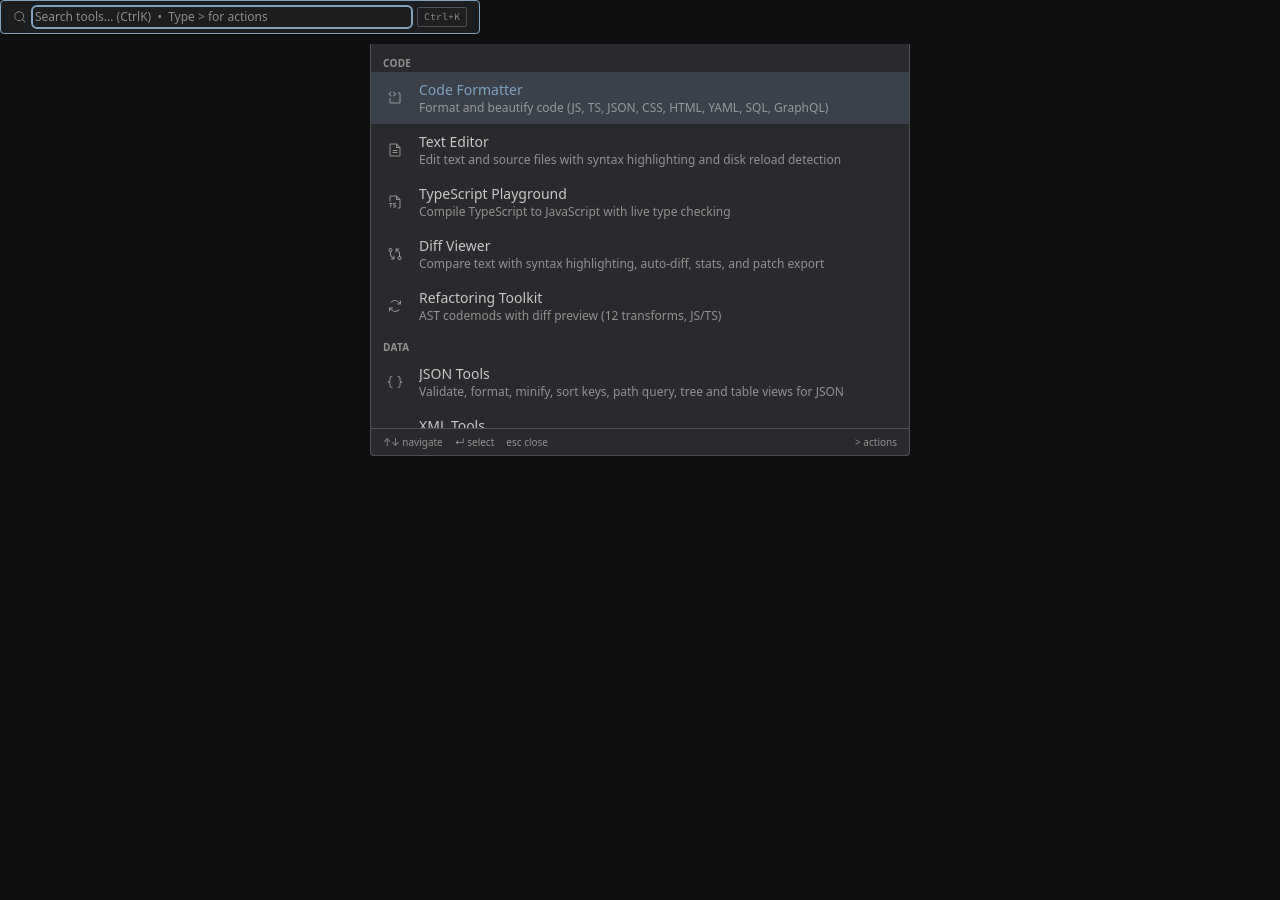
Scenario: CommandPalette › renders state-aware action names and Phosphor icons
Type ">" into the dropdown. click: {"x": 222, "y": 17}
box: [35,9,409,25]
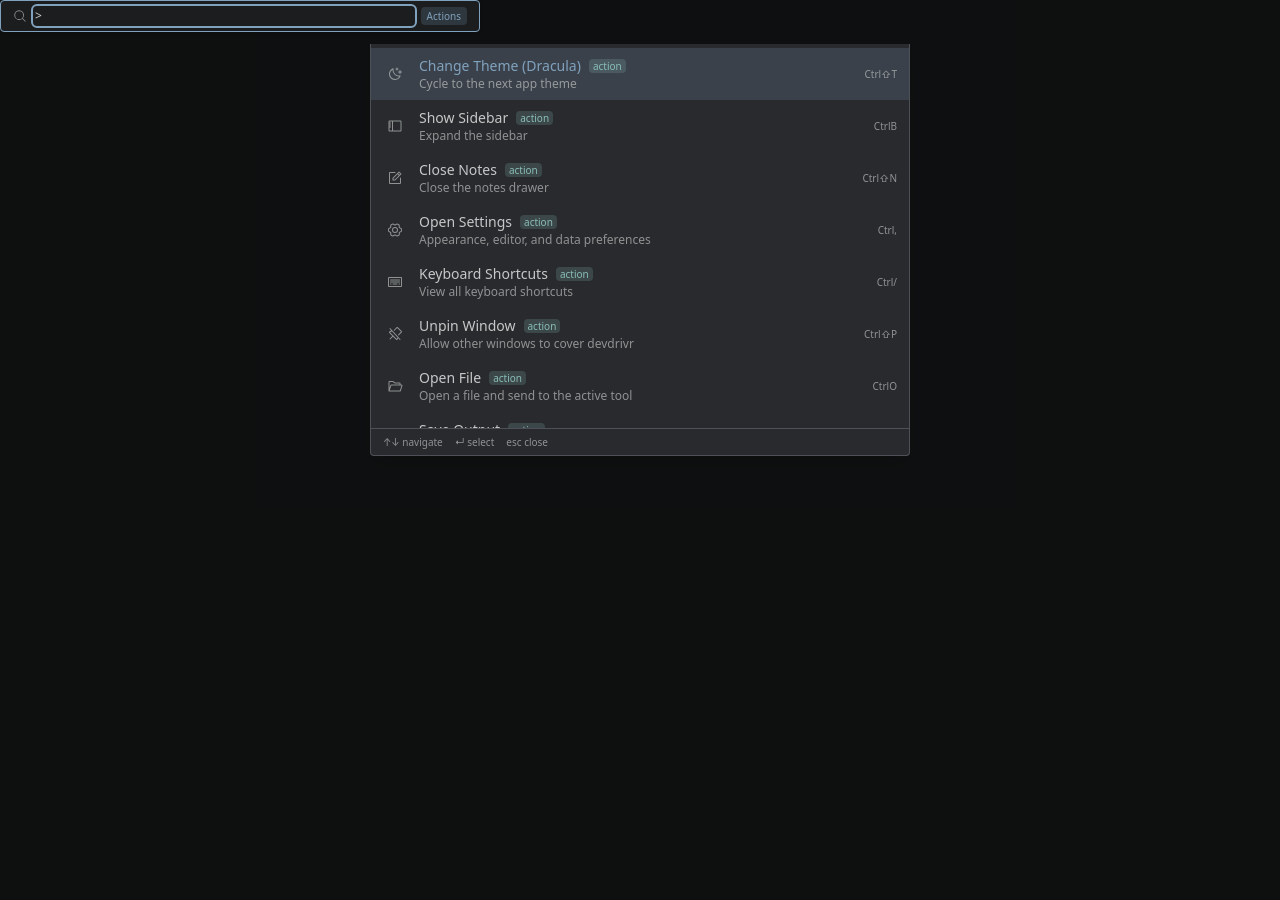
Expected: the option "Show Sidebar" is shown, [371,100,909,152]
Expected: the option "Close Notes action Close the notes drawer Ctrl⇧N" is shown, [371,152,909,204]
Expected: the option "Unpin Window" is shown, [371,308,909,360]
